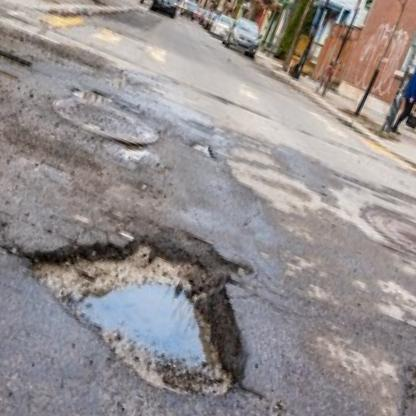pothole: (6, 201, 264, 394), (0, 29, 31, 77)
